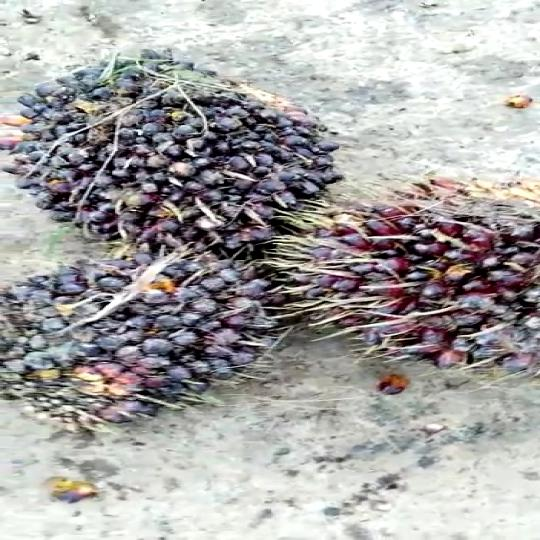kurang masak: (13, 42, 322, 246), (0, 234, 282, 450), (274, 167, 540, 380)
